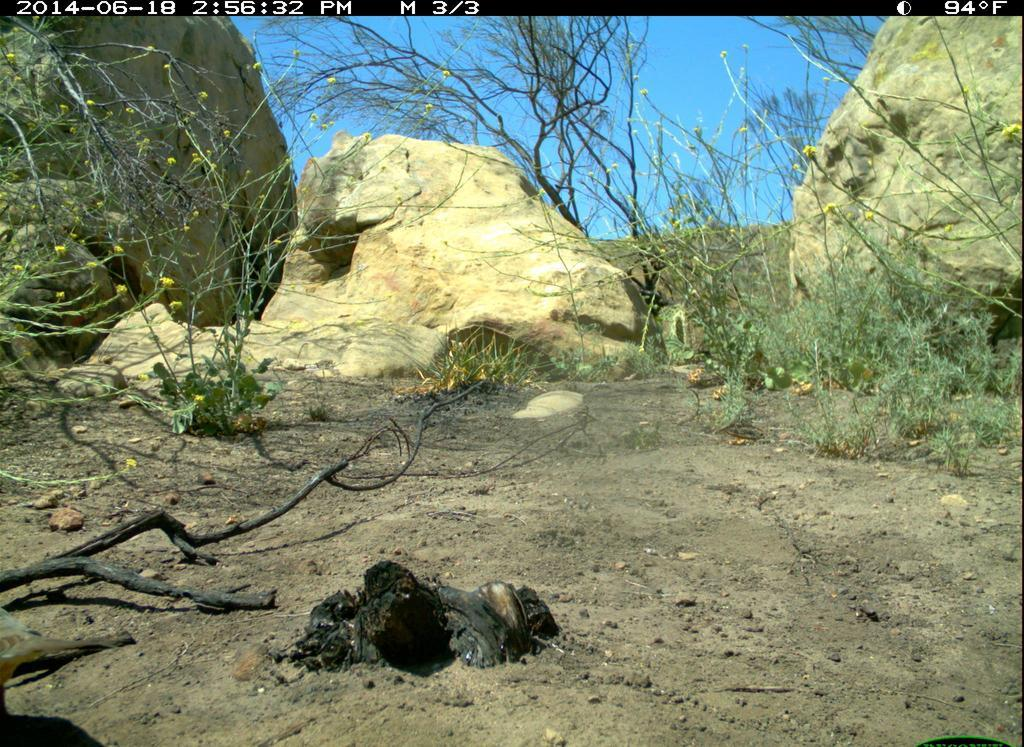bird: (4, 609, 134, 715)
